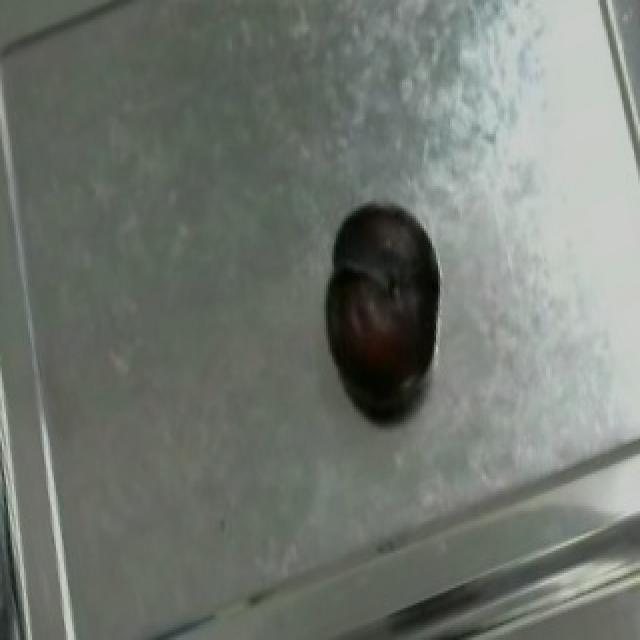Fruit: (310, 256, 452, 427)
